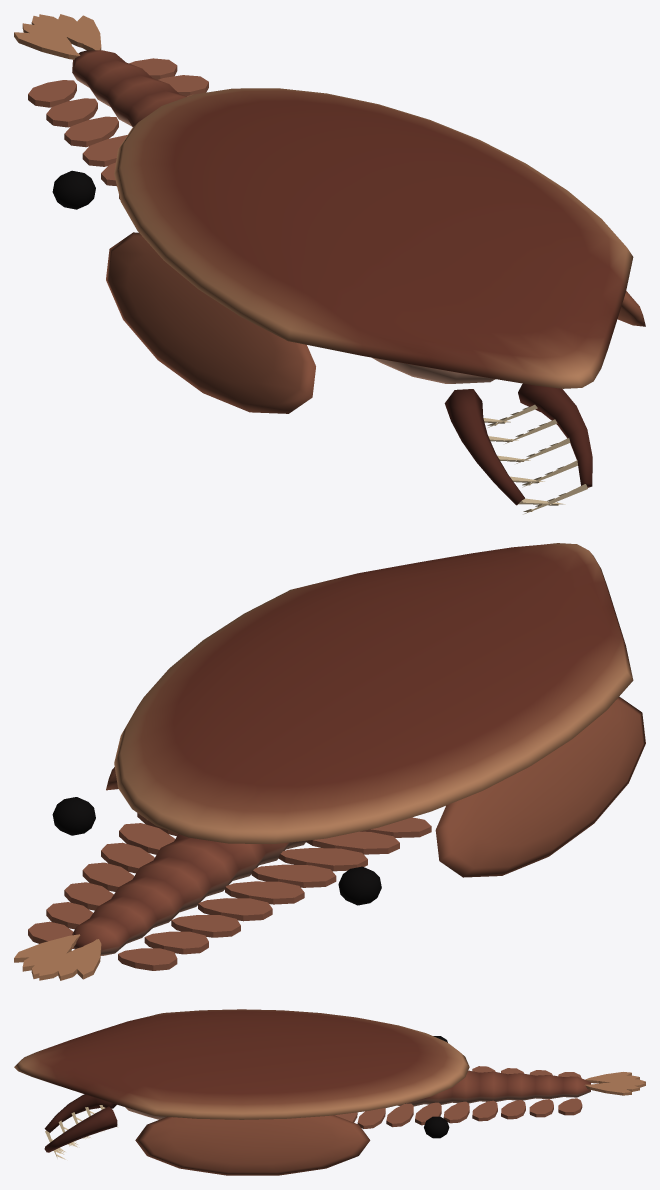
File: Titanokorys.fbx
3 views of the same model, one above another, from view 1: azimuth 30°, elevation 25°; view 2: azimuth 150°, elevation 25°; view 3: azimuth 270°, elevation 25° (orthographic). The views are drawn at different scales.
Parts seen in each view (by area): view 1: Titanokorys; view 2: Titanokorys; view 3: Titanokorys.
Boxes of the visible parts, x1,y1,x2,y2 form: Titanokorys: (14, 14, 645, 514); Titanokorys: (14, 543, 645, 980); Titanokorys: (14, 1009, 645, 1175).
Bounding box in the file's own units: 0.7221 × 0.3386 × 1.72.
